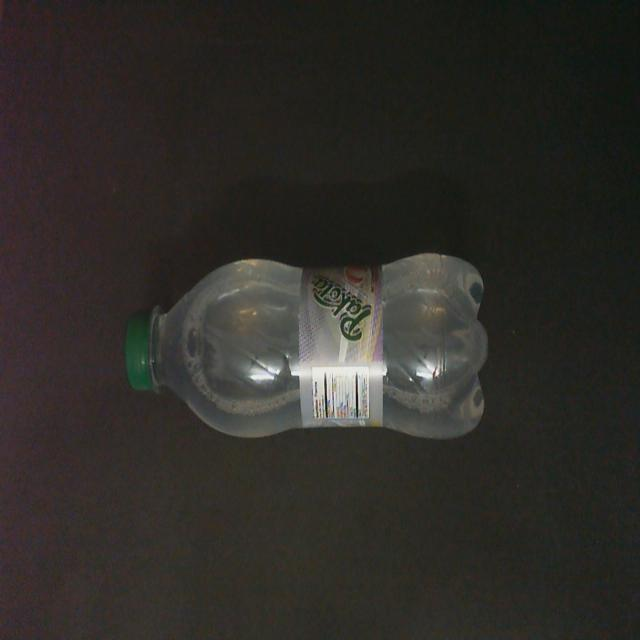non-defect: (122, 251, 489, 442)
